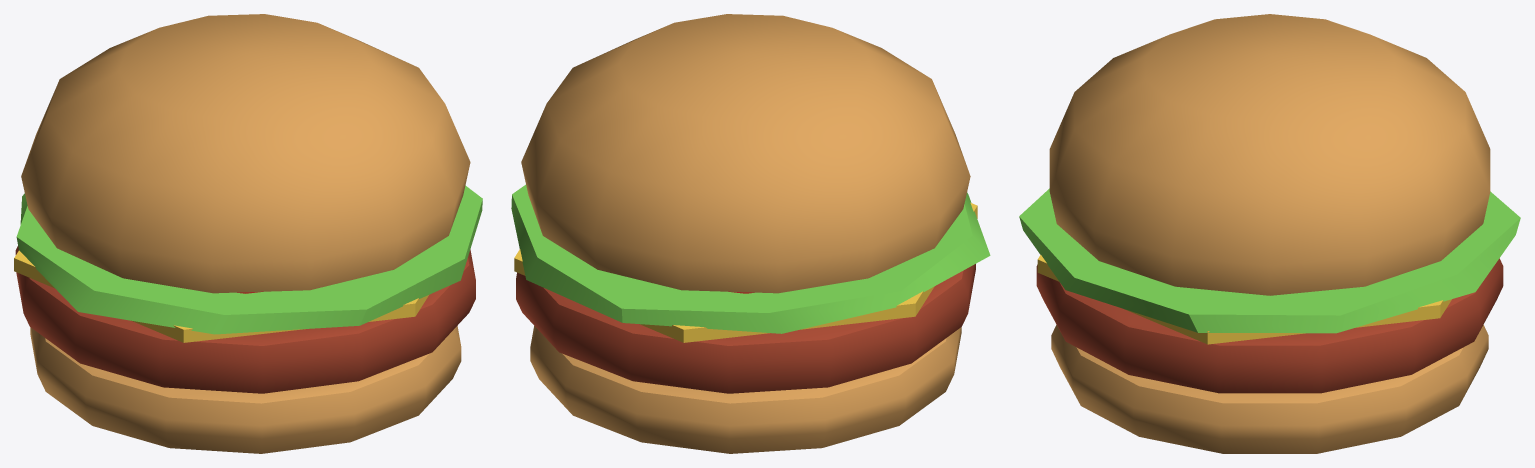
Rendered from Burger.fbx.
The picture shows the model from 3 angles, left to right: view 1: azimuth 30°, elevation 25°; view 2: azimuth 150°, elevation 25°; view 3: azimuth 270°, elevation 25°; orthographic projection.
Parts seen in each view (by area): view 1: Burger; view 2: Burger; view 3: Burger.
Boxes of the visible parts, left/top/right/bottom form: Burger: left=14, top=14, right=482, bottom=453; Burger: left=511, top=14, right=990, bottom=453; Burger: left=1019, top=14, right=1520, bottom=453.
Size of the model in its own units: 1.29 by 0.97 by 1.38.
Materials: 1 (1 with a texture image).
